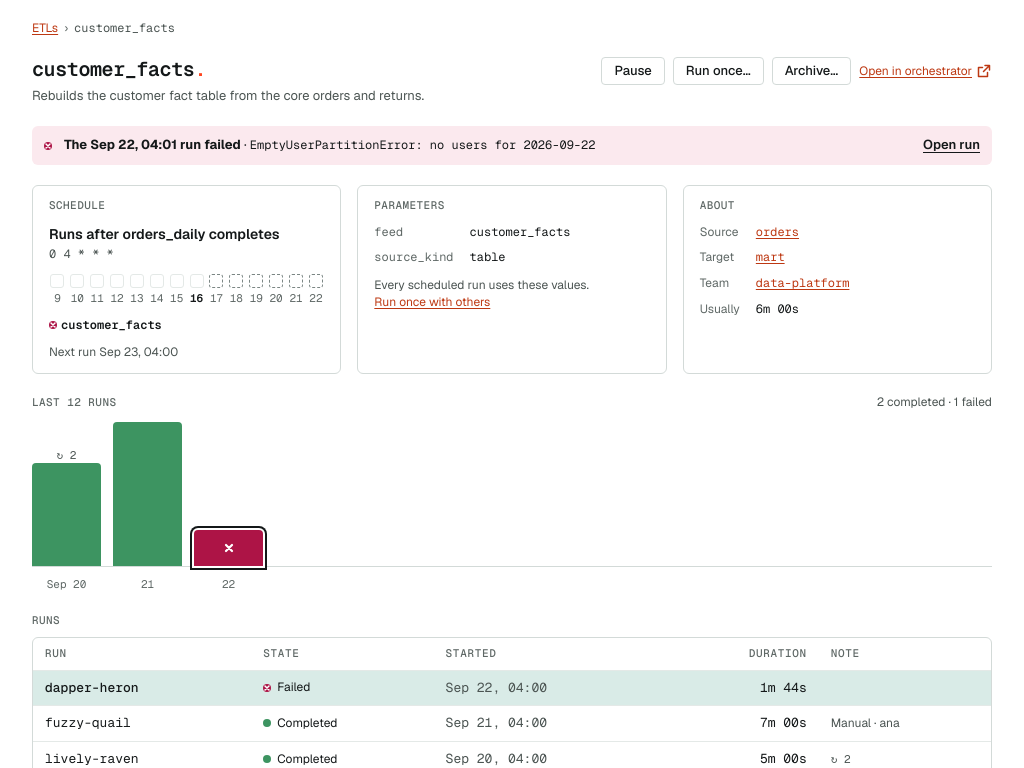
Test case: EtlPage › warns before archiving an ETL in a chain, without stopping it
Click the button "Archive…". click: (811, 71)
box: [772,57,851,85]
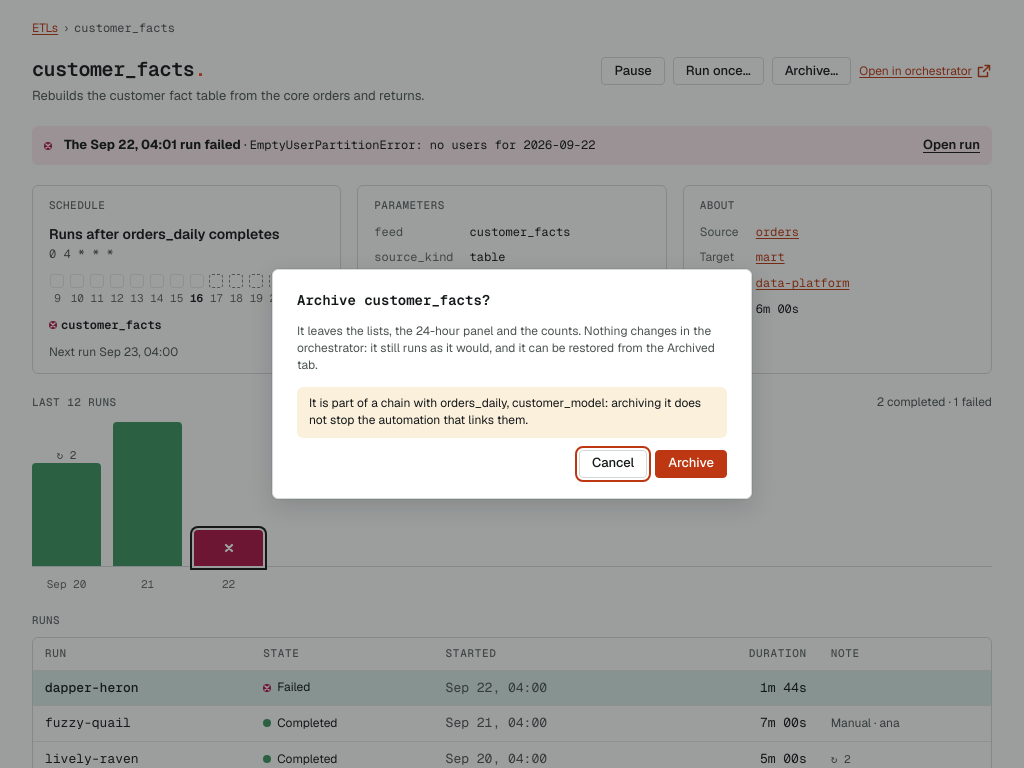
Now the dialog "Archive customer_facts?" shows "It is part of a chain with orders_daily, customer_model: archiving it does not stop the automation that links them.", box [309,395,701,428]
